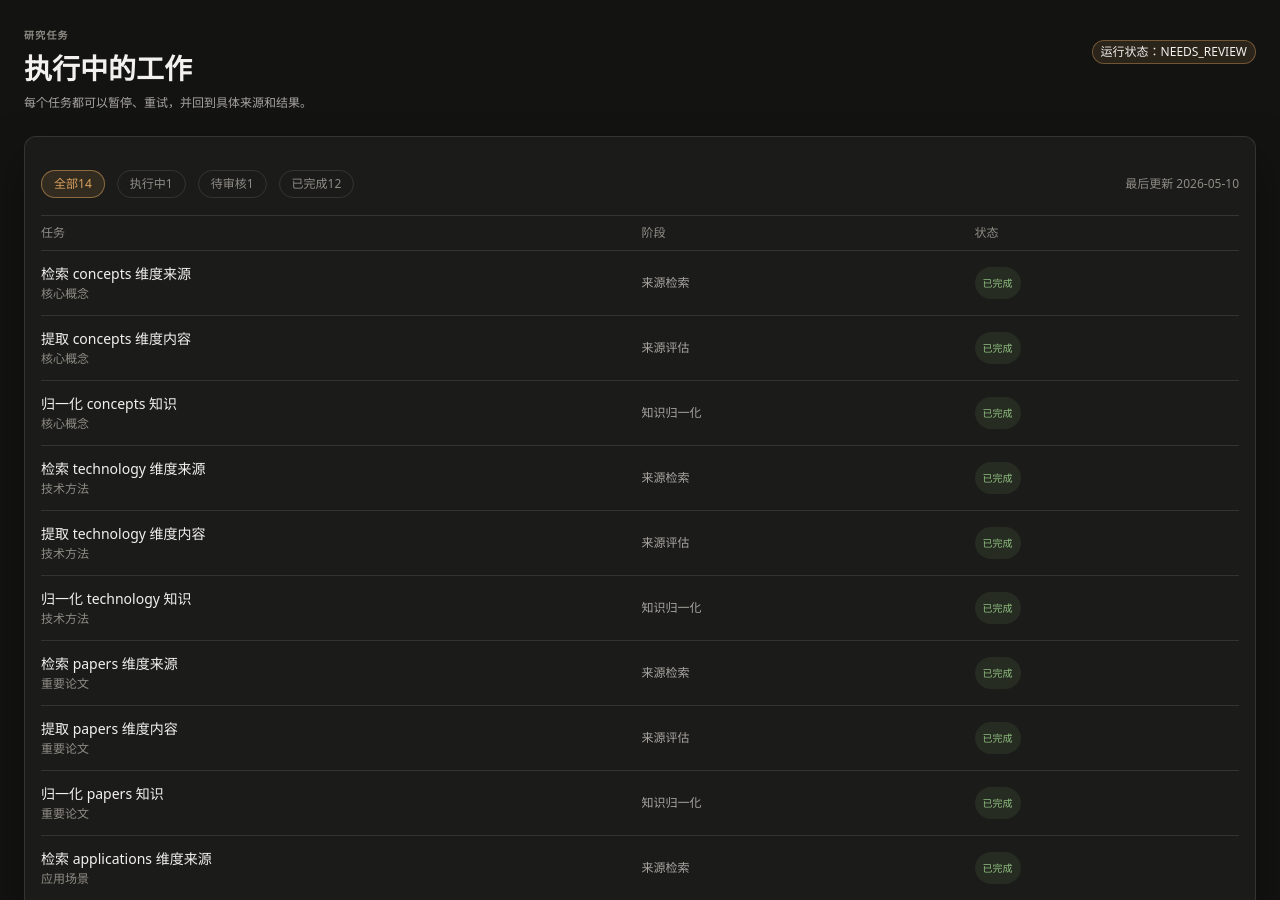
Test case: TasksPage prototype alignment › filters rows when a tab is selected
Click the button "待审核 1".
click(232, 184)  # box [198,170,266,198]
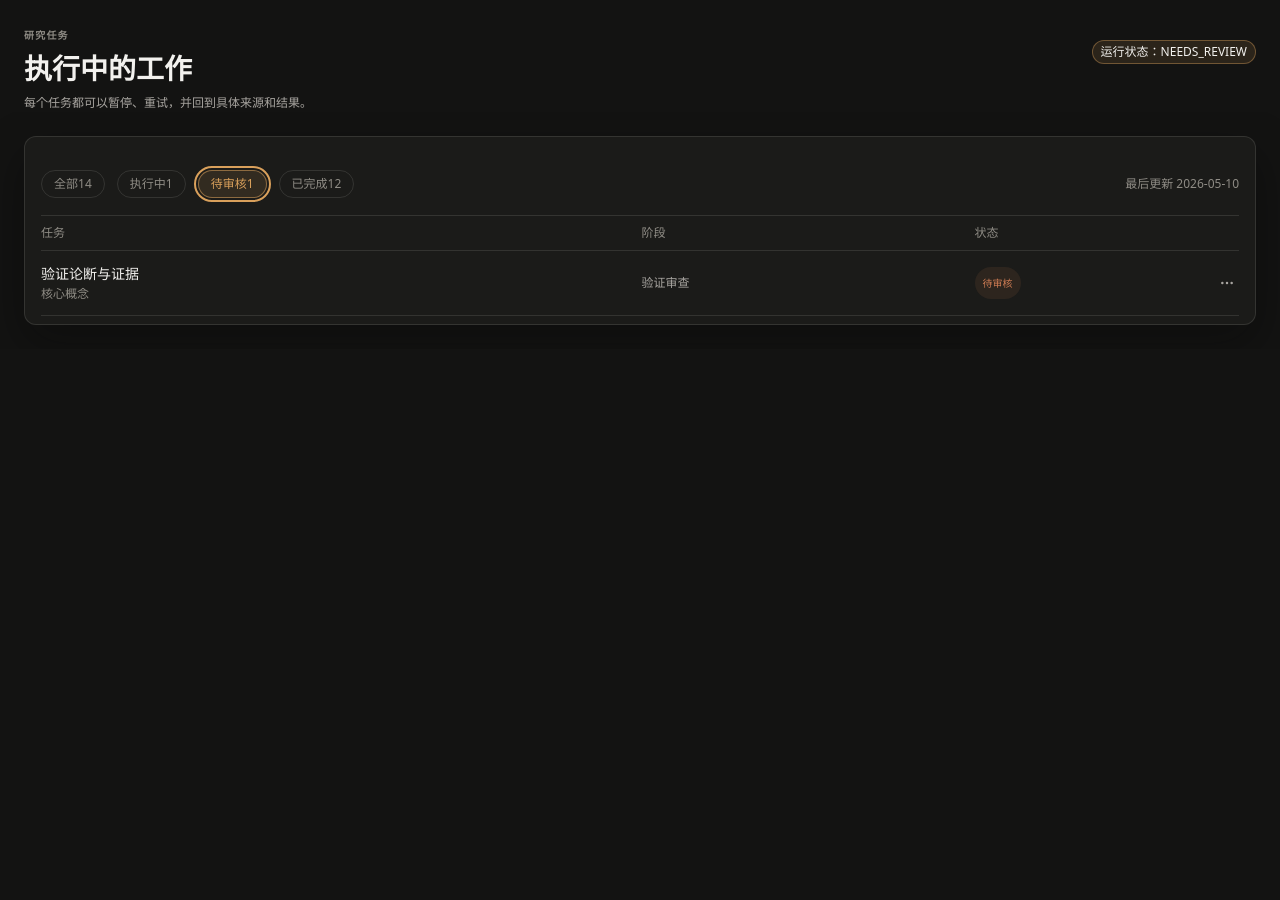
Expected: the text "验证论断与证据" is shown, [41,264,139,283]
Expected: the number of list items with test id "task-row" is 1, [41,251,1239,316]
Click the button "已完成 12".
click(316, 184)  # box [278,170,354,198]
(page scrolled)
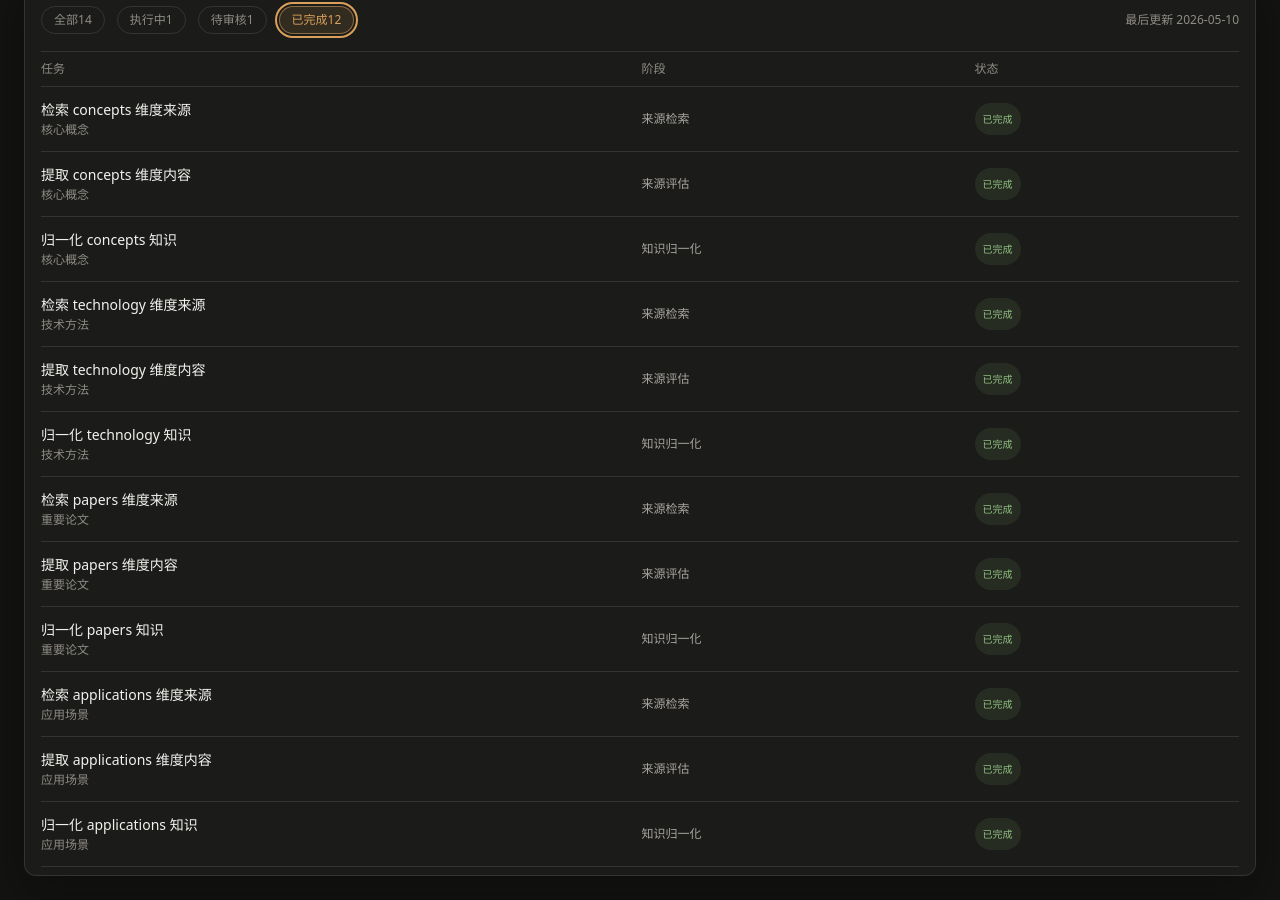
Expected: the number of list items with test id "task-row" is 12
